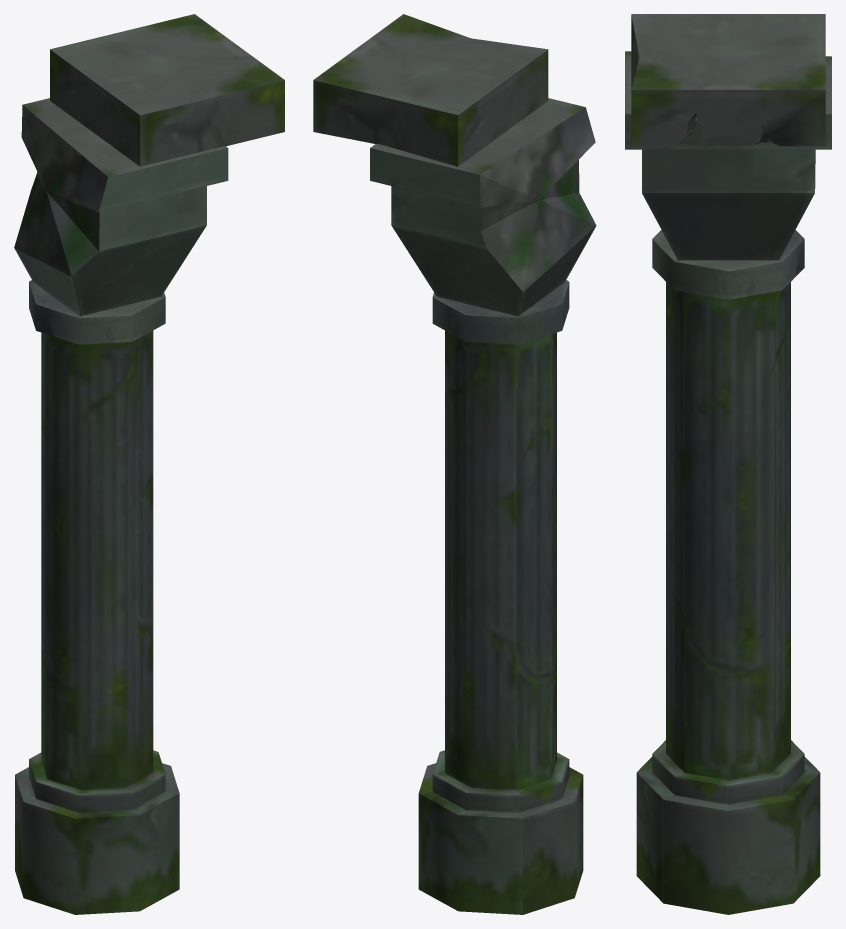
The model's file is Battle01_Pillars_02.FBX.
The picture shows the model from 3 angles, left to right: view 1: azimuth 30°, elevation 25°; view 2: azimuth 150°, elevation 25°; view 3: azimuth 270°, elevation 25°; orthographic projection. The views are drawn at different scales.
Parts seen in each view (by area): view 1: C01_Pillars_02; view 2: C01_Pillars_02; view 3: C01_Pillars_02.
Boxes of the visible parts, <box> form: C01_Pillars_02: <box>14,14,284,914</box>; C01_Pillars_02: <box>313,14,596,914</box>; C01_Pillars_02: <box>625,14,831,914</box>.
Size of the model in its own units: 1.49 by 5.27 by 1.15.
